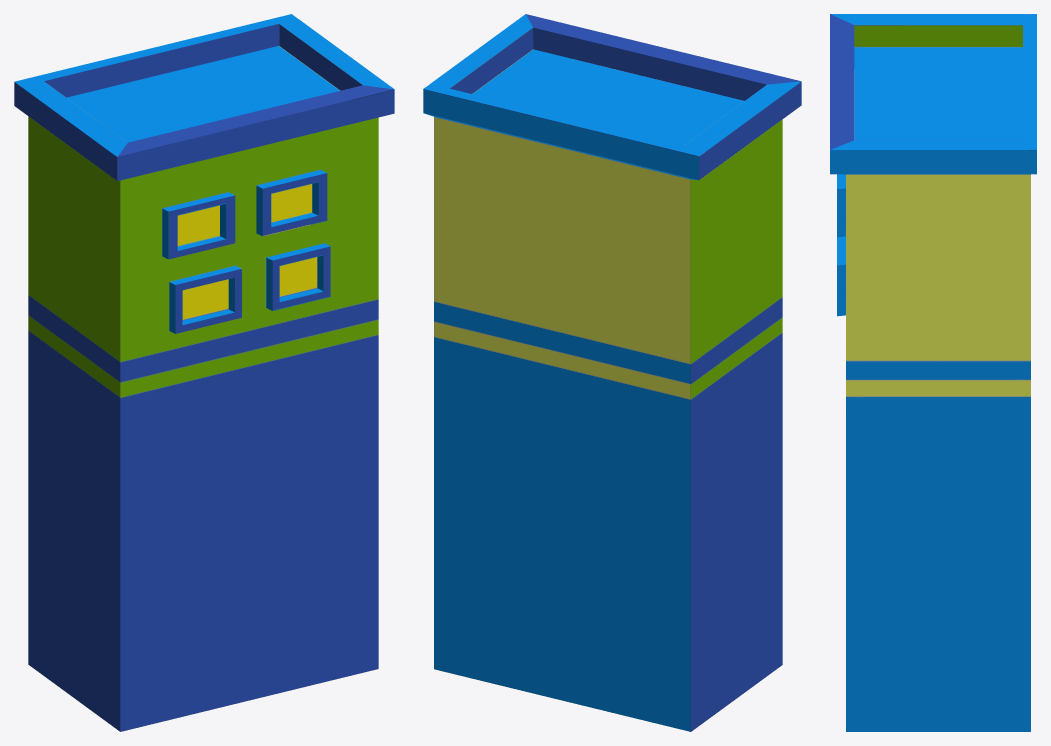
File: Building 4.fbx
The picture shows the model from 3 angles, left to right: view 1: azimuth 30°, elevation 25°; view 2: azimuth 150°, elevation 25°; view 3: azimuth 270°, elevation 25°; orthographic projection.
Parts seen in each view (by area): view 1: Cube.010; view 2: Cube.010; view 3: Cube.010.
Part boxes in pixels (x1,y1,x2,y2): Cube.010: [14, 14, 394, 731]; Cube.010: [423, 14, 801, 731]; Cube.010: [830, 14, 1036, 731].
Bounding box in the file's own units: 272 × 546 × 175.
Materials: 1 (1 with a texture image).
